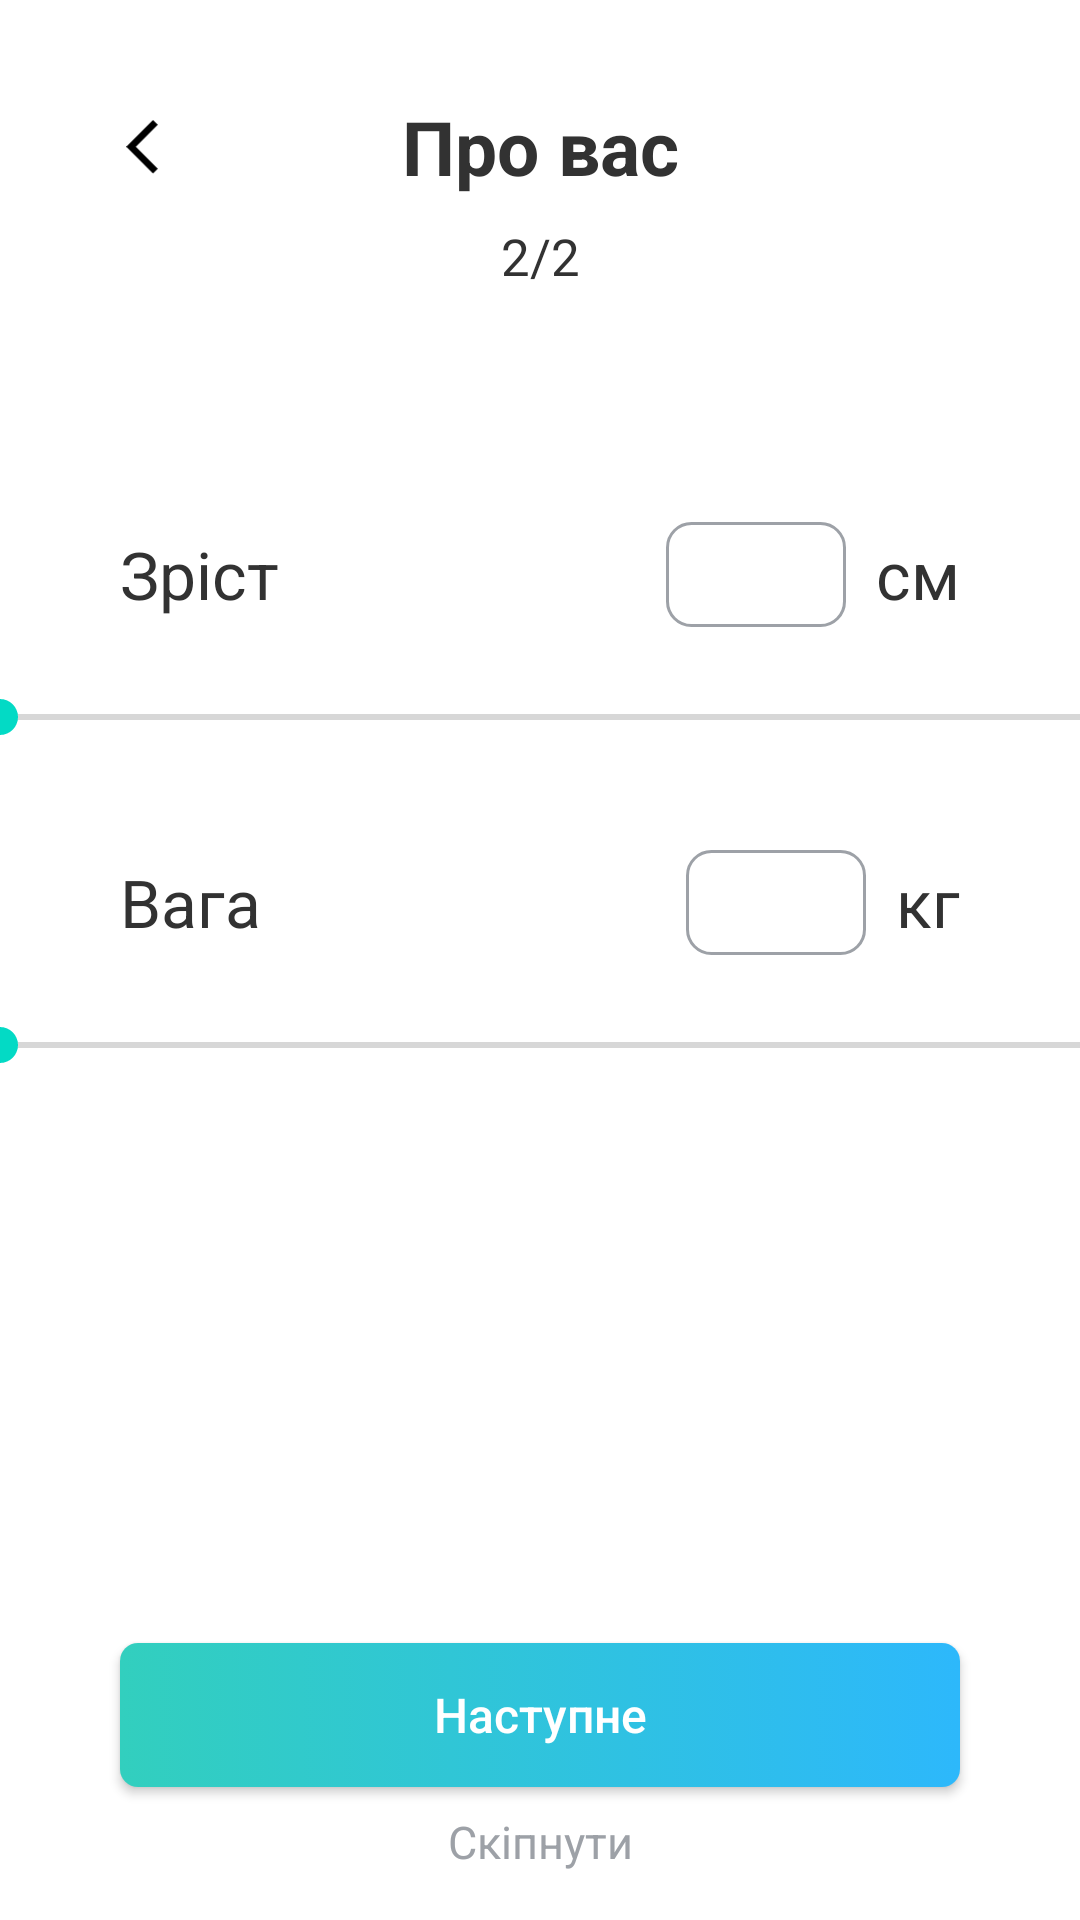

Screen size 1080*1920. Icon name, then its box in pixels as (left=x1, top=y1, right=x2, bottom=y2):
back arrow: (left=126, top=120, right=158, bottom=174)
